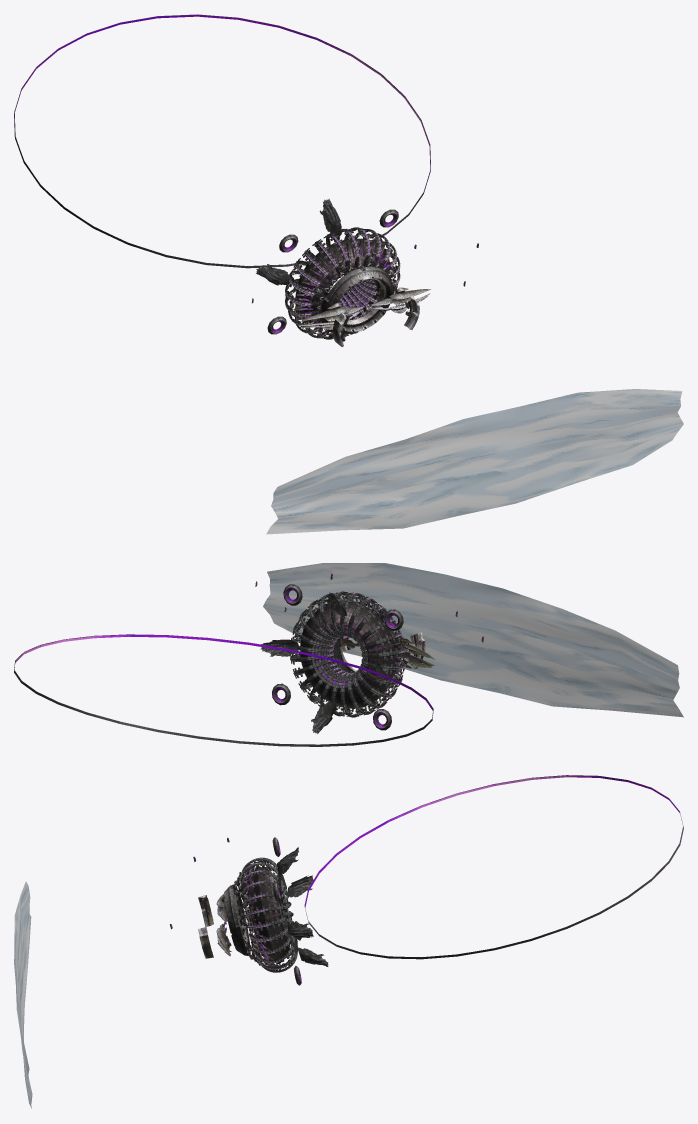
Rendered from eba003_zeus.glb.
The picture shows the model from 3 angles, top to bottom: view 1: azimuth 30°, elevation 25°; view 2: azimuth 150°, elevation 25°; view 3: azimuth 270°, elevation 25°; orthographic projection. The views are drawn at different scales.
Visible parts, largest first — view 1: eba003_zeus; view 2: eba003_zeus; view 3: eba003_zeus.
Part boxes in pixels (x1,y1,x2,y2): eba003_zeus: [14, 14, 683, 534]; eba003_zeus: [14, 563, 683, 746]; eba003_zeus: [14, 775, 683, 1108].
Size of the model in its own units: 92.01 by 48.23 by 138.
11 materials, 11 textured.
